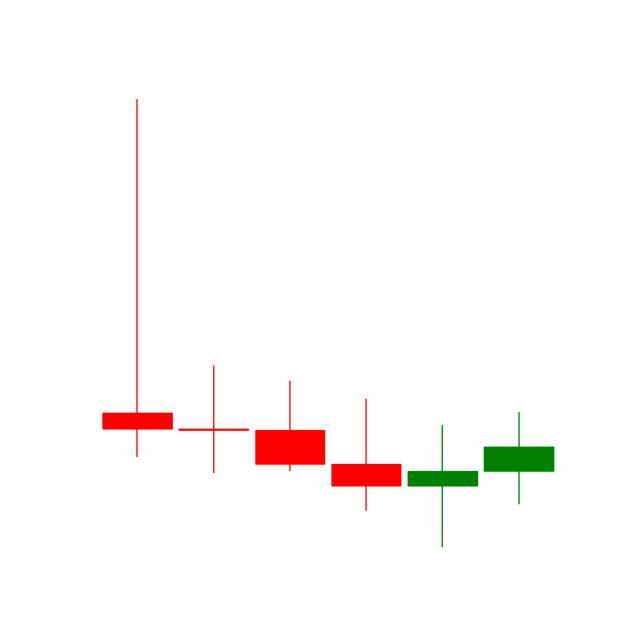Spinning Top: (404, 425, 482, 550)
